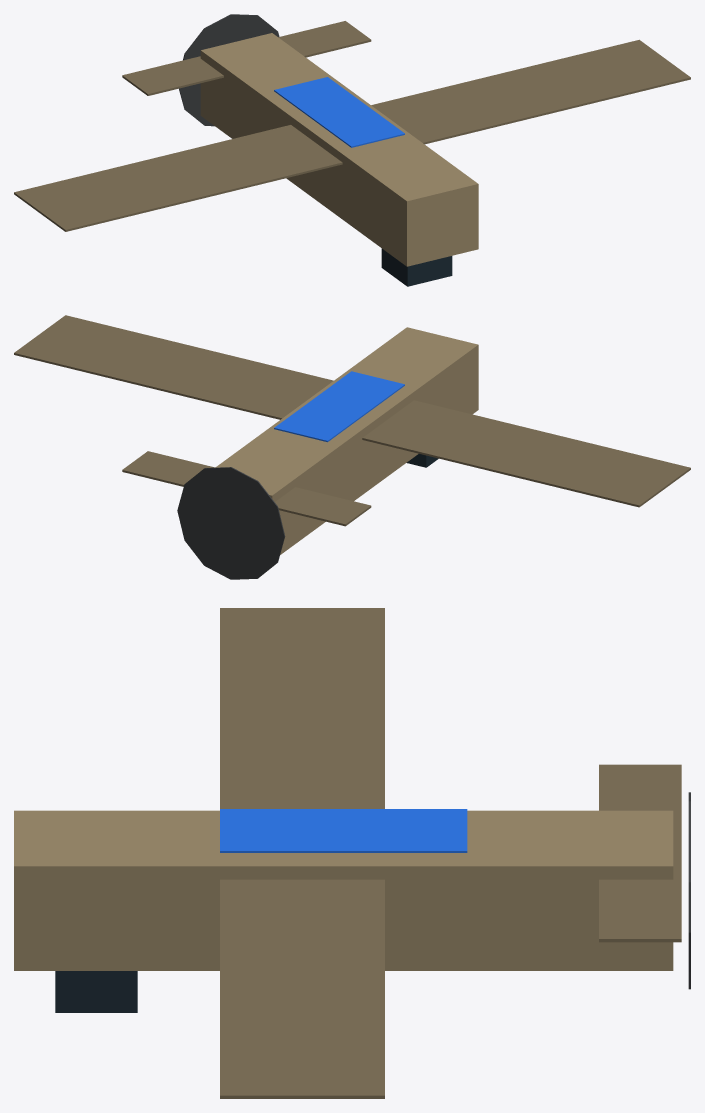
File: ae_fighter.glb
3 renders of one model, top to bottom at view 1: azimuth 30°, elevation 25°; view 2: azimuth 150°, elevation 25°; view 3: azimuth 270°, elevation 25°, orthographic. The views are drawn at different scales.
Parts seen in each view (by area): view 1: wing, body, team_plate, tail, prop, camera_pod; view 2: wing, body, prop, team_plate, tail; view 3: body, wing, team_plate, tail, camera_pod.
Boxes of the visible parts, box(x1,y1,x2,y2) form: wing: box(14, 39, 690, 231); body: box(200, 33, 478, 266); team_plate: box(274, 77, 404, 147); tail: box(122, 21, 371, 95); prop: box(179, 14, 279, 126); camera_pod: box(381, 248, 452, 286); wing: box(14, 315, 690, 507); body: box(215, 327, 478, 554); prop: box(177, 467, 285, 579); team_plate: box(274, 371, 404, 442); tail: box(122, 451, 371, 526); body: box(14, 810, 673, 970); wing: box(220, 608, 384, 1098); team_plate: box(220, 809, 467, 852); tail: box(599, 764, 681, 942); camera_pod: box(55, 971, 137, 1012).
Bounding box in the file's own units: 9.8 × 1.82 × 5.75.
